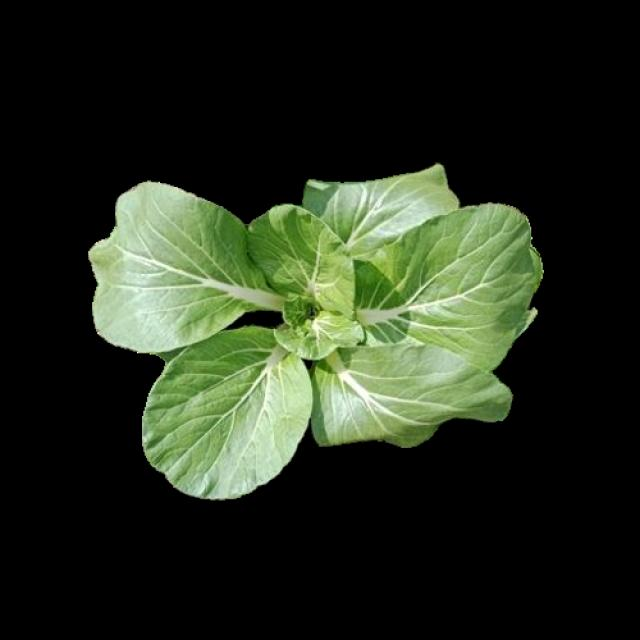healthy: (90, 177, 544, 498)
mature: (86, 160, 546, 500)
